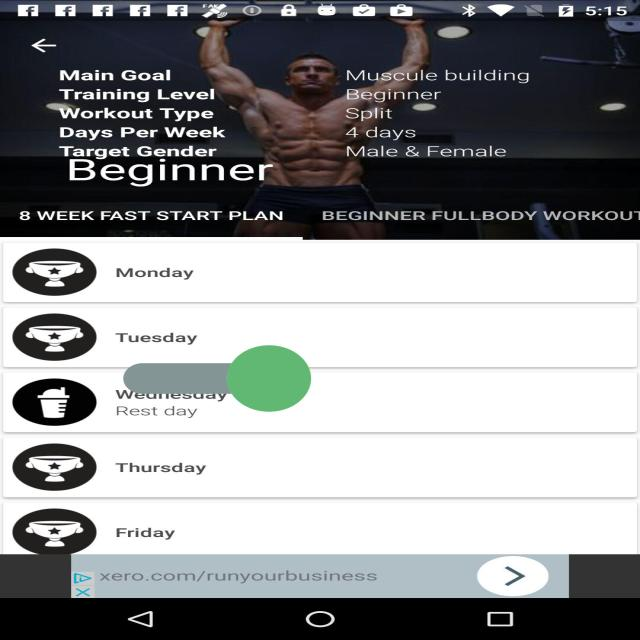social proof: (123, 304, 311, 453)
